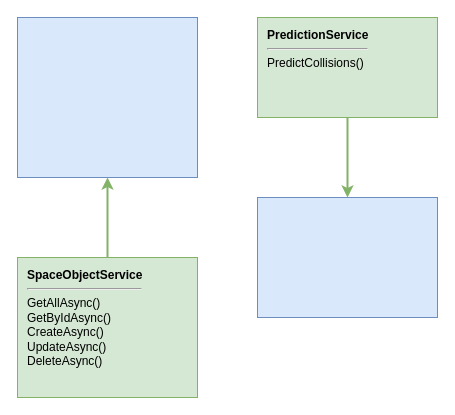
This 455x415 diagram has some shape labels left out. The centre of each missing label's shape, as x and y in pixels:
"CollisionPrediction ObjectA ObjectB Distance WillCollide" belongs at point (347, 257).
"SpaceObject Id Name X, Y, Z VelocityX VelocityY VelocityZ Radius" belongs at point (107, 97).
